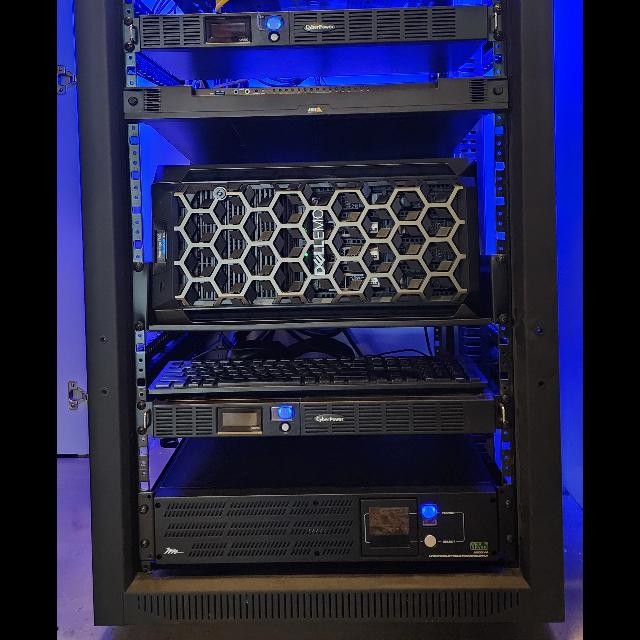Server: (81, 0, 565, 632)
